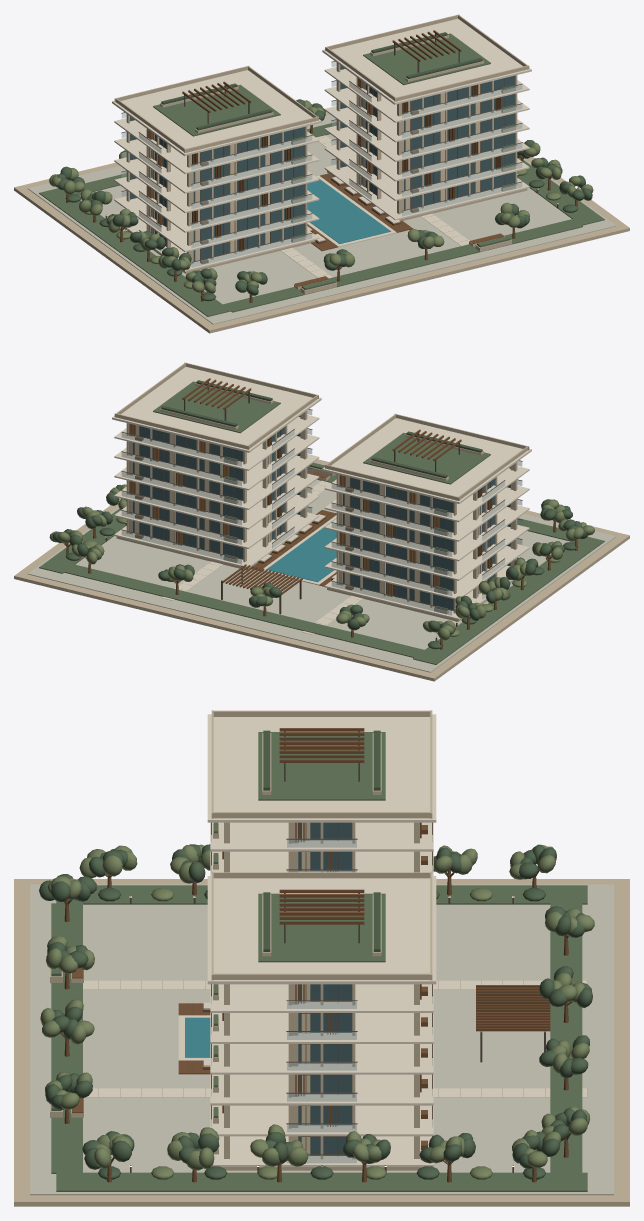
File: luma-avlu-v2.glb
The picture shows the model from 3 angles, top to bottom: view 1: azimuth 30°, elevation 25°; view 2: azimuth 150°, elevation 25°; view 3: azimuth 270°, elevation 25°; orthographic projection. The views are drawn at different scales.
Visible parts, largest first — view 1: Terrace_slab (×12), Courtyard_paving, Glazed_front (×12), Roof_slab (×2), Luma_Avlu_Concept_v2_1_Planting, Balcony_rail (×12), Luma_Avlu_Concept_v2_1_Limestone, Roof_garden (×2), Luma_Avlu_Concept_v2_1_Olive_light, Luma_Avlu_Concept_v2_1_Olive_green, Pool, roof-B_Limestone (+7 smaller); view 2: Terrace_slab (×12), Courtyard_paving, Glazed_front (×12), Roof_slab (×2), Luma_Avlu_Concept_v2_1_Planting, Balcony_rail (×12), Luma_Avlu_Concept_v2_1_Limestone, Roof_garden (×2), Luma_Avlu_Concept_v2_1_Olive_green, Luma_Avlu_Concept_v2_1_Olive_light, Luma_Avlu_Concept_v2_1_Thermowood, roof-B_Limestone (+7 smaller); view 3: Courtyard_paving, Terrace_slab (×8), Roof_slab (×2), Luma_Avlu_Concept_v2_1_Planting, Luma_Avlu_Concept_v2_1_Limestone, Luma_Avlu_Concept_v2_1_Olive_light, Luma_Avlu_Concept_v2_1_Olive_green, Roof_garden (×2), Luma_Avlu_Concept_v2_1_Thermowood, Glazed_front (×7), Luma_Avlu_Concept_v2_1_Ivory_plaster, roof-B_Limestone (+6 smaller).
Part boxes in pixels (bbox=[...]): Terrace_slab (×12): bbox=[114, 67, 529, 271]; Courtyard_paving: bbox=[27, 114, 615, 324]; Glazed_front (×12): bbox=[193, 75, 514, 261]; Roof_slab (×2): bbox=[112, 19, 531, 155]; Luma_Avlu_Concept_v2_1_Planting: bbox=[39, 122, 604, 316]; Balcony_rail (×12): bbox=[191, 84, 522, 267]; Luma_Avlu_Concept_v2_1_Limestone: bbox=[14, 111, 629, 333]; Roof_garden (×2): bbox=[153, 33, 490, 136]; Luma_Avlu_Concept_v2_1_Olive_light: bbox=[49, 100, 593, 293]; Luma_Avlu_Concept_v2_1_Olive_green: bbox=[57, 99, 592, 301]; Pool: bbox=[307, 178, 390, 243]; roof-B_Limestone: bbox=[325, 14, 529, 101]; Terrace_slab (×12): bbox=[114, 415, 529, 619]; Courtyard_paving: bbox=[28, 462, 616, 672]; Glazed_front (×12): bbox=[132, 426, 453, 610]; Roof_slab (×2): bbox=[112, 367, 531, 503]; Luma_Avlu_Concept_v2_1_Planting: bbox=[39, 462, 604, 664]; Balcony_rail (×12): bbox=[121, 432, 452, 615]; Luma_Avlu_Concept_v2_1_Limestone: bbox=[14, 459, 629, 681]; Roof_garden (×2): bbox=[153, 381, 490, 484]; Luma_Avlu_Concept_v2_1_Olive_green: bbox=[52, 485, 587, 649]; Luma_Avlu_Concept_v2_1_Olive_light: bbox=[49, 484, 594, 640]; Luma_Avlu_Concept_v2_1_Thermowood: bbox=[63, 470, 577, 649]; roof-B_Limestone: bbox=[114, 362, 318, 449]; Courtyard_paving: bbox=[30, 884, 613, 1195]; Terrace_slab (×8): bbox=[210, 822, 433, 1166]; Roof_slab (×2): bbox=[207, 714, 436, 984]; Luma_Avlu_Concept_v2_1_Planting: bbox=[51, 885, 587, 1191]; Luma_Avlu_Concept_v2_1_Limestone: bbox=[14, 879, 629, 1206]; Luma_Avlu_Concept_v2_1_Olive_light: bbox=[40, 844, 594, 1179]; Luma_Avlu_Concept_v2_1_Olive_green: bbox=[39, 844, 592, 1179]; Roof_garden (×2): bbox=[258, 732, 385, 962]; Luma_Avlu_Concept_v2_1_Thermowood: bbox=[60, 870, 572, 1182]; Glazed_front (×7): bbox=[298, 822, 352, 1125]; Luma_Avlu_Concept_v2_1_Ivory_plaster: bbox=[83, 980, 587, 1097]; roof-B_Limestone: bbox=[211, 871, 432, 980].
Size of what is drawn, in the model's own units: 72 by 22.89 by 58.
